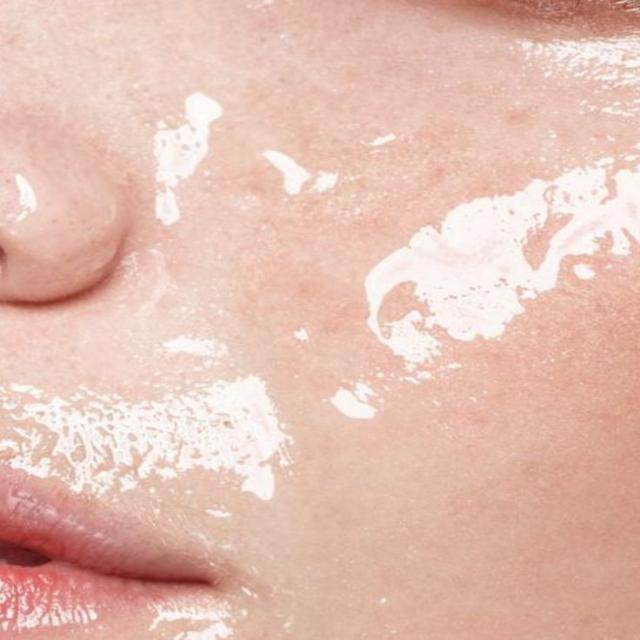Oily-Skin: (105, 401, 324, 493), (375, 256, 535, 368), (482, 159, 640, 244), (143, 121, 284, 216)
